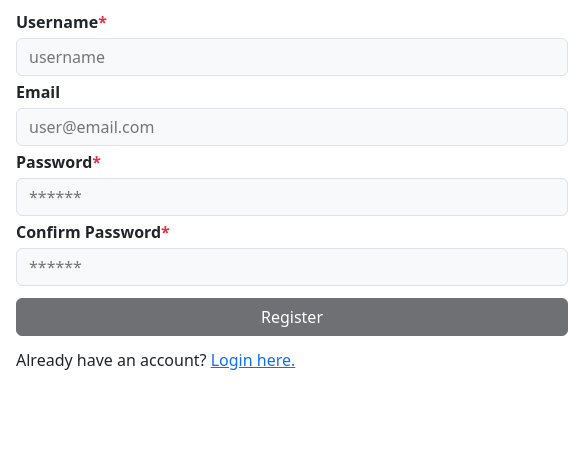
Test: Register component › should render the success message when register request succeeds
Expected: the button "Register" is shown, [16,298,568,336]
Type "user123" into the field named "username-input".
click(292, 57); type("user123")  # box [16,38,568,76]
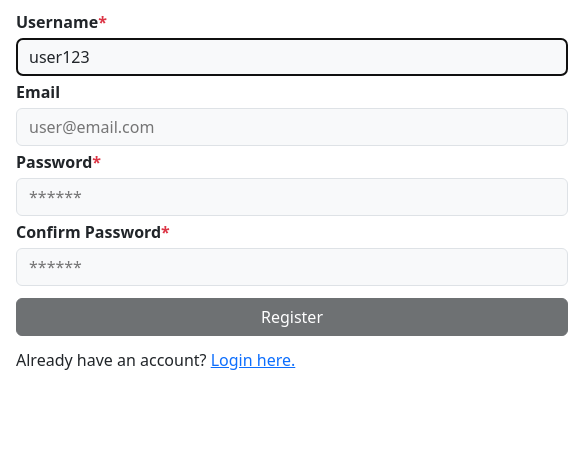
Type "mail@gmail.com" into the field named "email-input".
click(292, 127); type("mail@gmail.com")  # box [16,108,568,146]
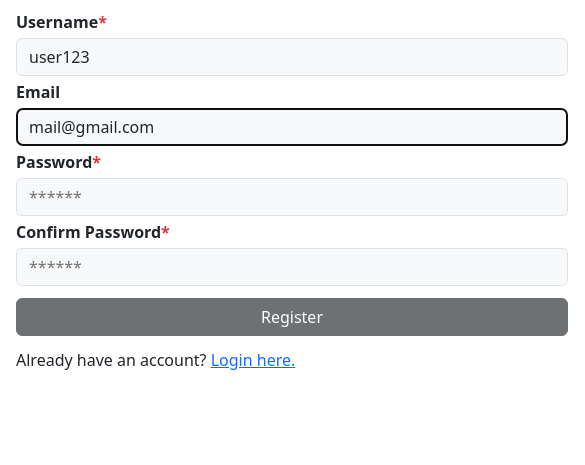
Type "123123" into the password field named "password-input".
click(292, 197); type("123123")  # box [16,178,568,216]
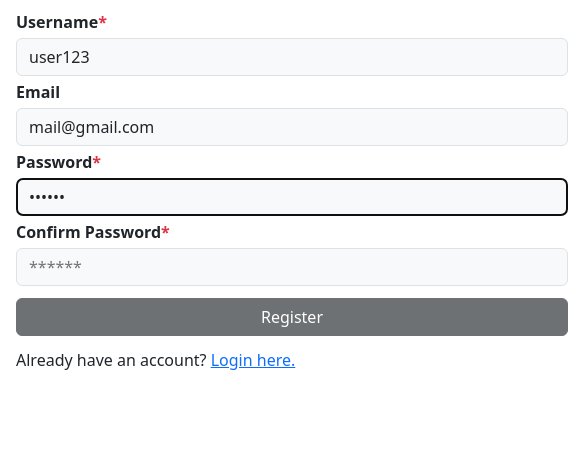
Type "123123" into the password field named "confirm-password-input".
click(292, 267); type("123123")  # box [16,248,568,286]
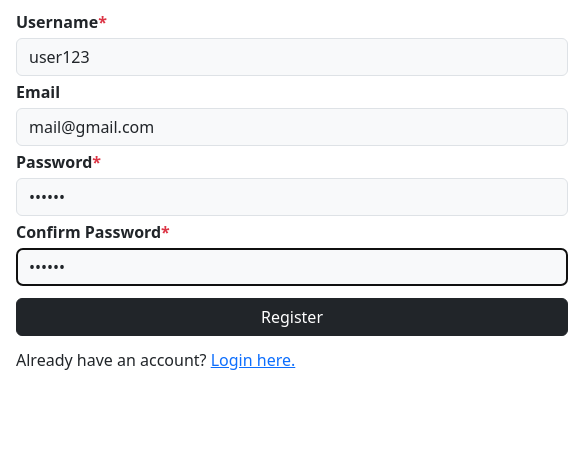
Click the button "Register".
click(292, 317)  # box [16,298,568,336]
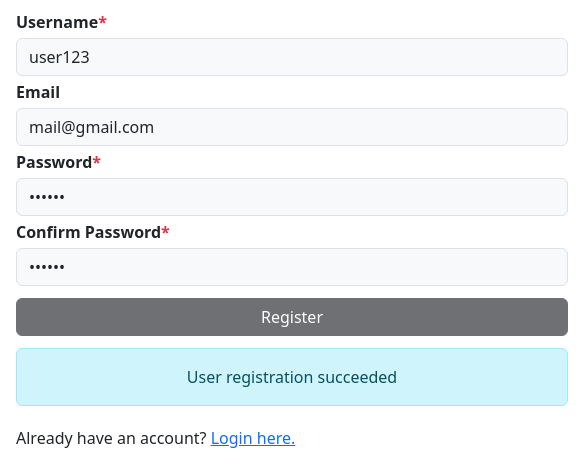
Expected: the text "User registration succeeded" is shown, [16,348,568,406]
